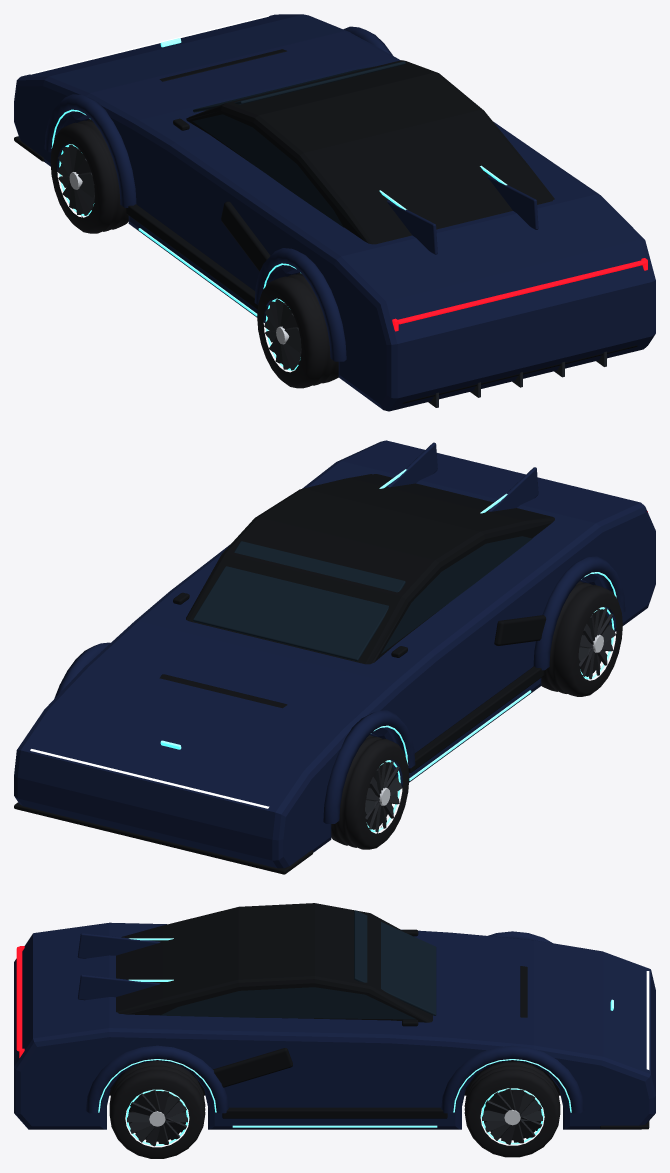
File: phantom-e.glb
The picture shows the model from 3 angles, top to bottom: view 1: azimuth 30°, elevation 25°; view 2: azimuth 150°, elevation 25°; view 3: azimuth 270°, elevation 25°; orthographic projection. The views are drawn at different scales.
Parts seen in each view (by area): view 1: Body, Cabin, Tire (×2), FenderArc (×2), SideGlass, SideBlade, DorsalFin (×2), TailLight, DoorScoop, Windscreen; view 2: Body, Cabin, Windscreen, Tire (×2), FenderArc (×3), SideGlass, SideBlade, DorsalFin (×2), Splitter, DoorScoop, LightBlade, BonnetVent; view 3: Body, Cabin, Tire (×2), SideGlass, FenderArc (×2), Windscreen, SideBlade, DorsalFin (×2), DoorScoop, TailLight, GroundGlow, BonnetVent (+2 smaller).
Part boxes in pixels (x1,y1,x2,y2): Body: [14, 14, 655, 411]; Cabin: [186, 60, 554, 244]; Tire (×2): [50, 119, 338, 388]; FenderArc (×2): [44, 94, 346, 361]; SideGlass: [192, 114, 343, 227]; SideBlade: [126, 204, 266, 309]; DorsalFin (×2): [387, 175, 538, 254]; TailLight: [397, 260, 646, 324]; DoorScoop: [221, 201, 270, 271]; Windscreen: [193, 61, 405, 112]; Body: [14, 440, 655, 868]; Cabin: [186, 474, 554, 664]; Windscreen: [193, 541, 405, 661]; Tire (×2): [331, 581, 622, 849]; FenderArc (×3): [54, 556, 625, 823]; SideGlass: [381, 536, 532, 653]; SideBlade: [408, 666, 543, 772]; DorsalFin (×2): [387, 442, 538, 511]; Splitter: [14, 802, 313, 874]; DoorScoop: [494, 615, 546, 645]; LightBlade: [30, 749, 269, 808]; BonnetVent: [159, 674, 287, 708]; Body: [14, 922, 655, 1129]; Cabin: [116, 903, 432, 1022]; Tire (×2): [109, 1060, 560, 1158]; SideGlass: [160, 987, 415, 1019]; FenderArc (×2): [85, 1045, 584, 1113]; Windscreen: [354, 910, 436, 1015]; SideBlade: [222, 1107, 447, 1118]; DorsalFin (×2): [77, 933, 160, 1000]; DoorScoop: [213, 1048, 292, 1087]; TailLight: [16, 946, 22, 1051]; GroundGlow: [232, 1125, 437, 1127]; BonnetVent: [520, 966, 527, 1017].
Size of the model in its own units: 2.28 by 1.27 by 4.7.
